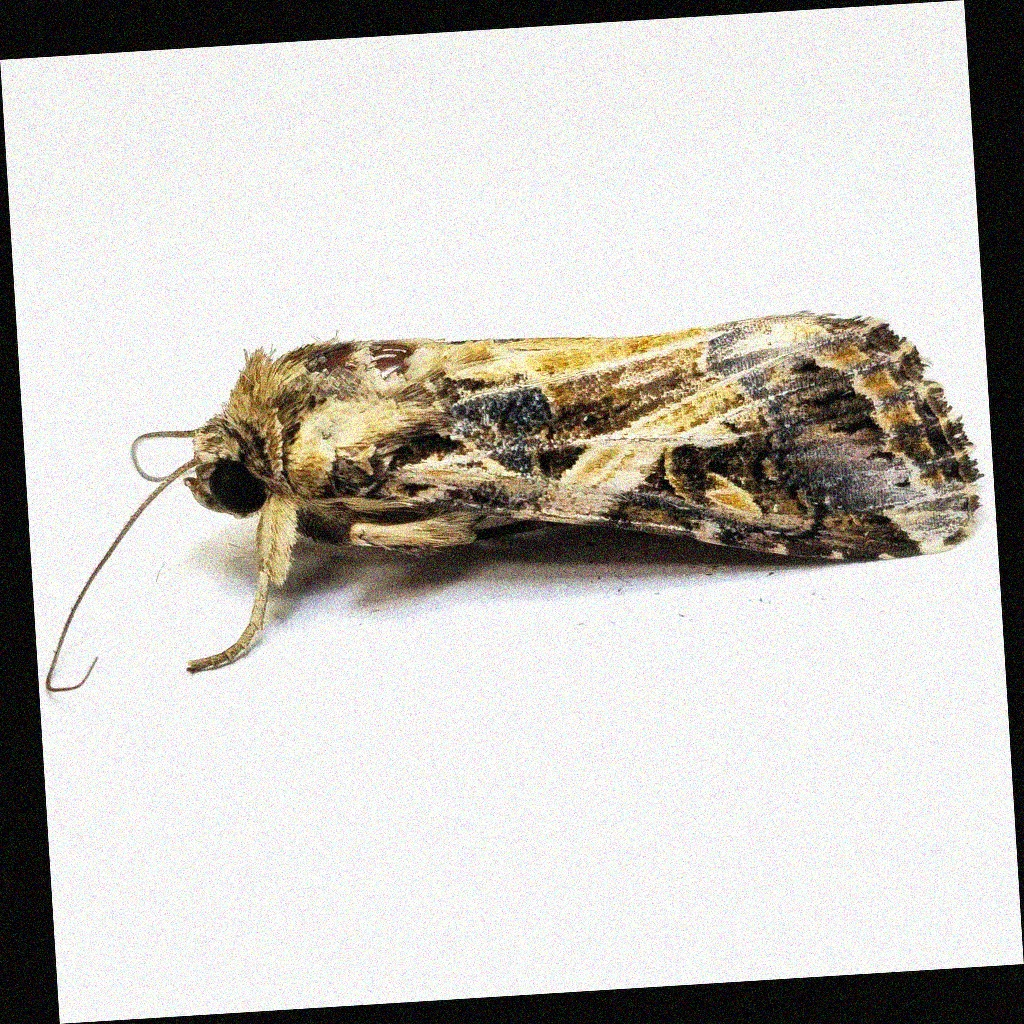Spodoptera litura: (35, 316, 986, 666)
